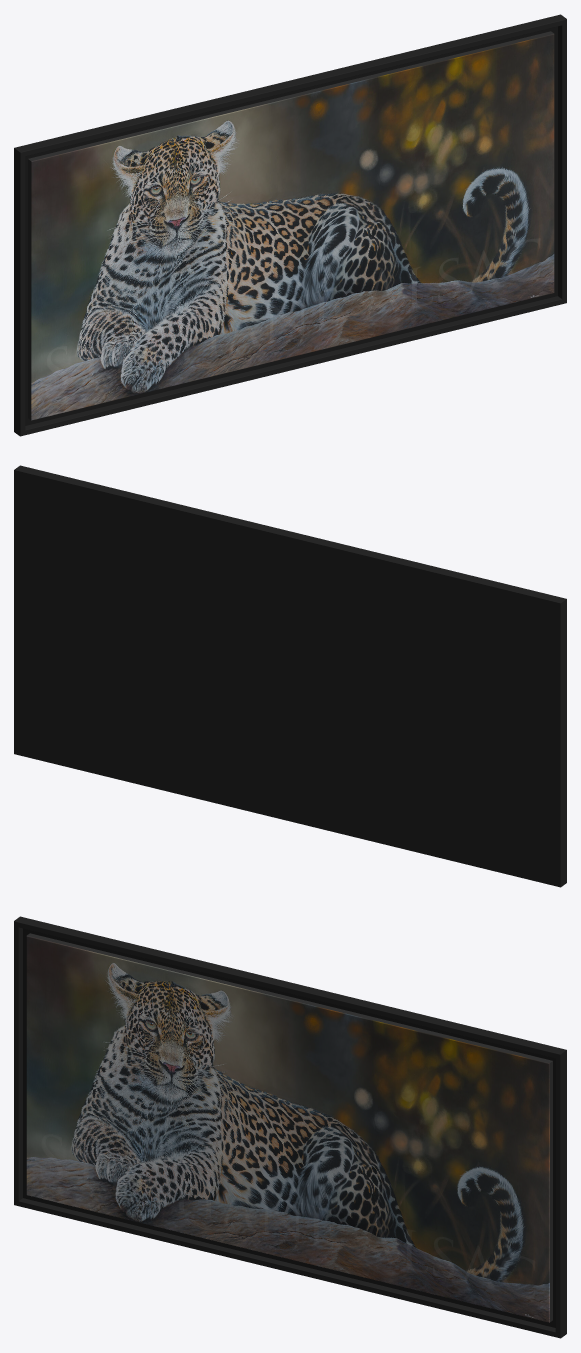
Rendered from tableau-leopard-geant-e4d99d0c.glb.
3 views of the same model, one above another, from view 1: azimuth 30°, elevation 25°; view 2: azimuth 150°, elevation 25°; view 3: azimuth 330°, elevation 25° (orthographic).
Visible parts, largest first — view 1: Painting; view 2: Painting; view 3: Painting.
Part boxes in pixels (box(x1,y1,x2,y2)): Painting: box(14, 14, 566, 436); Painting: box(14, 465, 566, 887); Painting: box(14, 916, 566, 1338).
Bounding box in the file's own units: 1.99 × 0.986 × 0.04.
4 materials, 2 textured.
